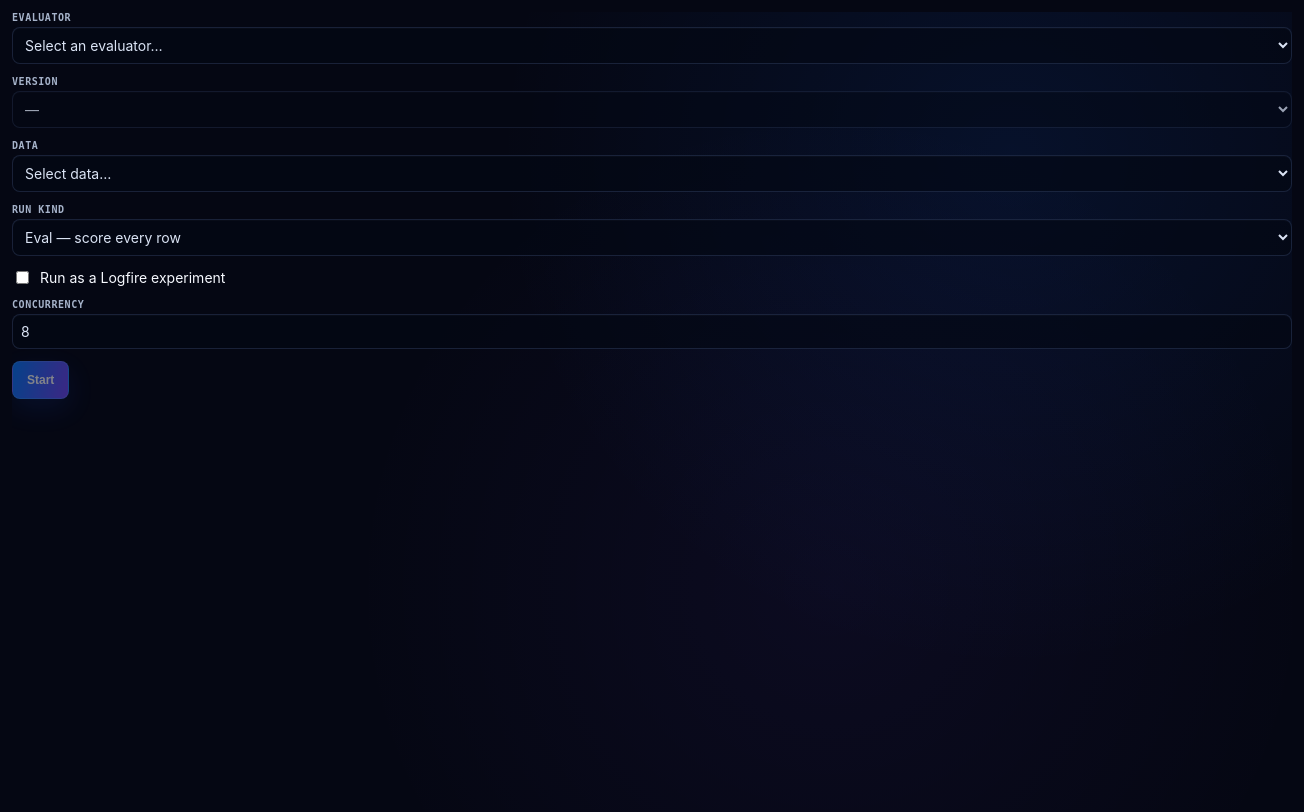
Test: RunLauncher › selecting an evaluator loads its versions and preselects the active version
Select "My evaluator" in the dropdown labelled "Evaluator" at (652, 46), box x1=12 y1=27 x2=1292 y2=64
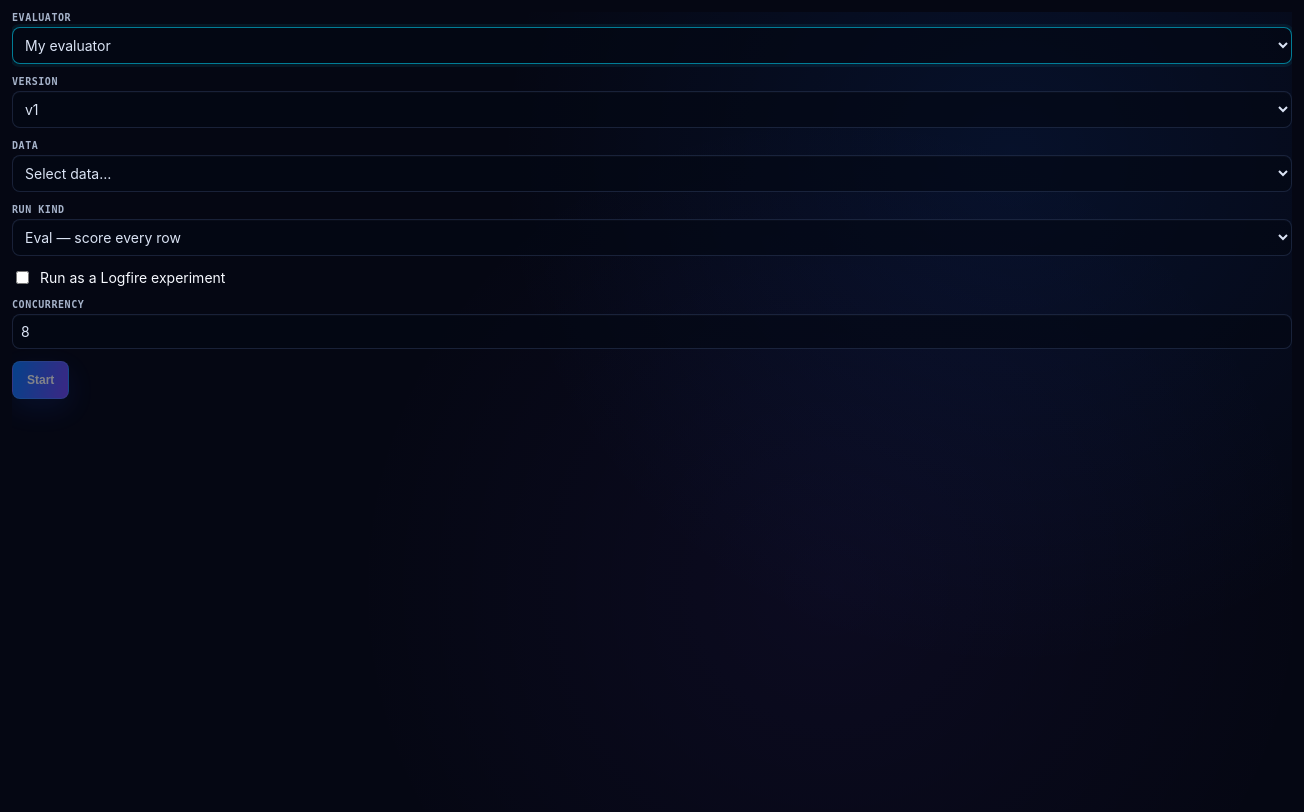
Expected: the dropdown labelled "Version" is enabled, x1=12 y1=91 x2=1292 y2=128
Expected: the dropdown labelled "Version" shows "v1", x1=12 y1=91 x2=1292 y2=128
